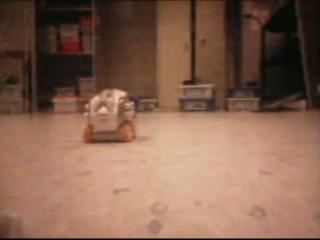cozmo: (82, 88, 136, 144)
